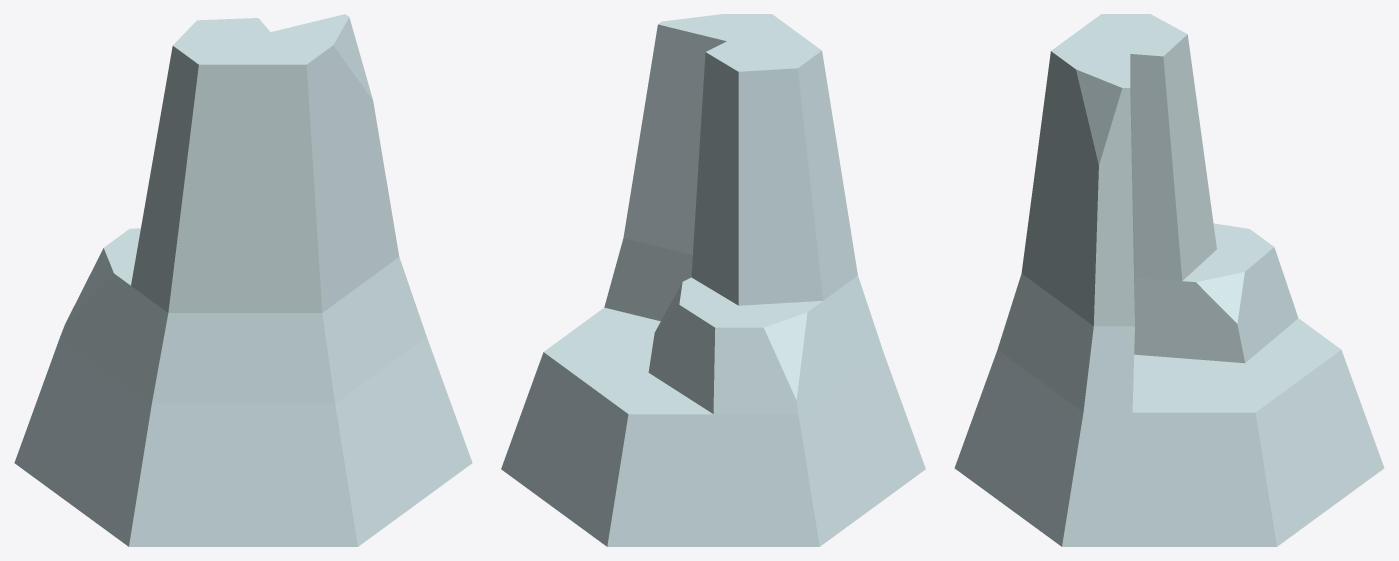
Rendered from stone_tallH.glb.
The picture shows the model from 3 angles, left to right: view 1: azimuth 30°, elevation 25°; view 2: azimuth 150°, elevation 25°; view 3: azimuth 270°, elevation 25°; orthographic projection. The views are drawn at different scales.
Parts seen in each view (by area): view 1: stone_tallH; view 2: stone_tallH; view 3: stone_tallH.
Boxes of the visible parts, box(x1,y1,x2,y2) form: stone_tallH: box(14, 14, 472, 546); stone_tallH: box(501, 14, 925, 546); stone_tallH: box(954, 14, 1384, 546).
Bounding box in the file's own units: 0.5749 × 0.7108 × 0.6639.
Materials: 1 (1 with a texture image).
